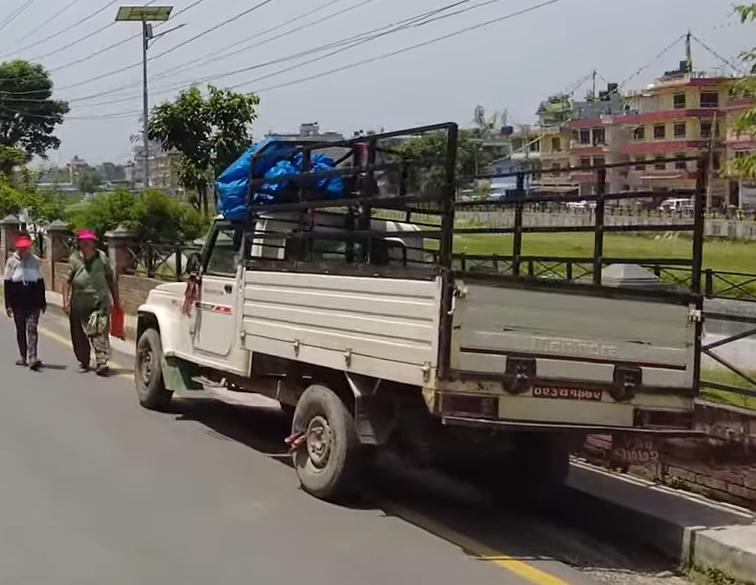transport_vehicle: (112, 96, 715, 511)
